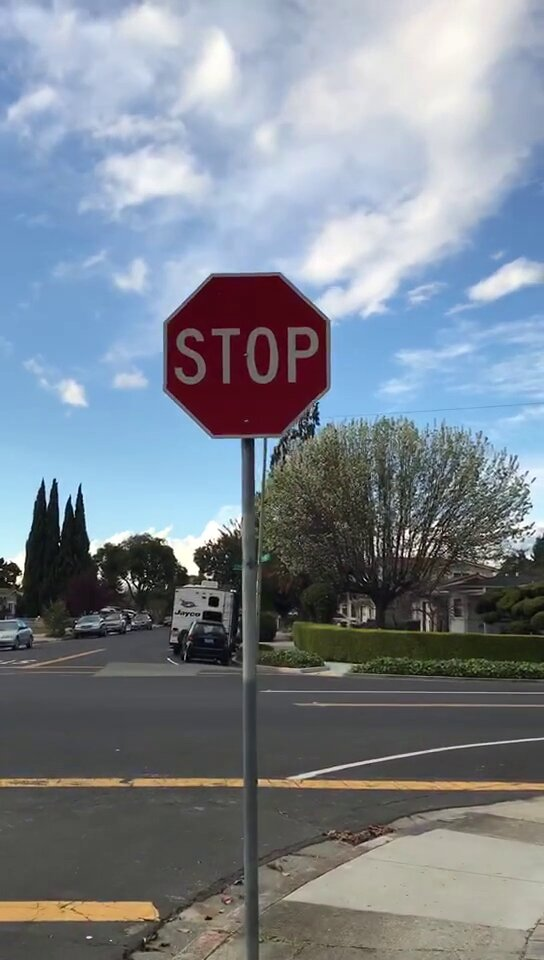stop_sign: (165, 273, 330, 437)
